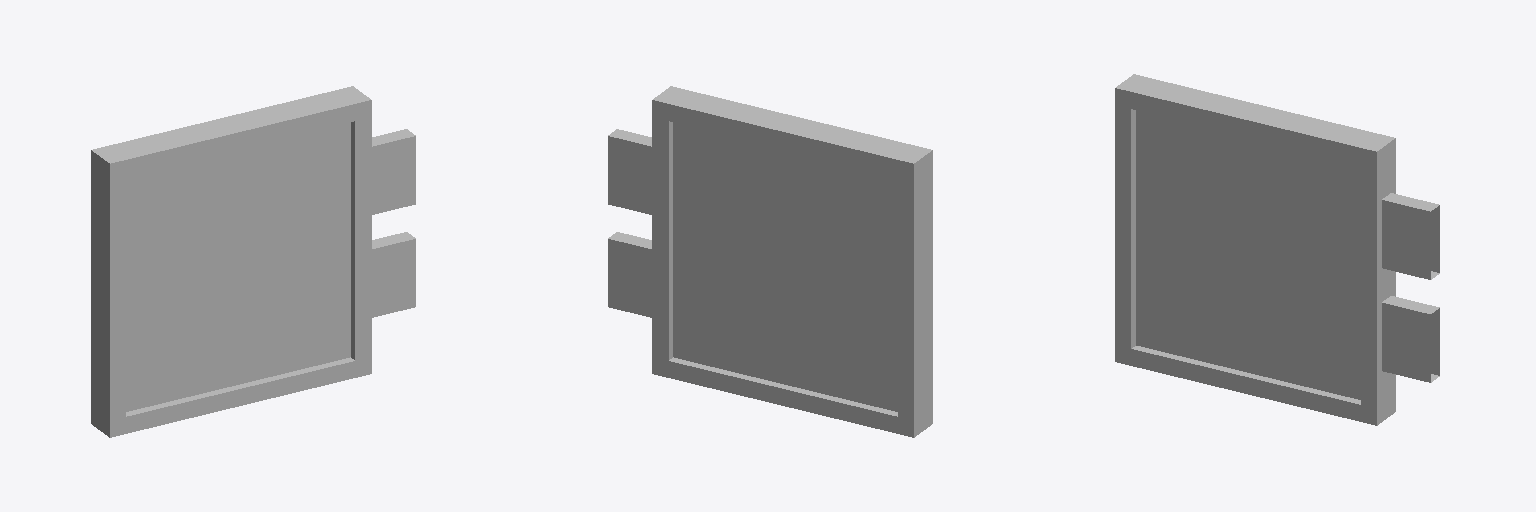
The picture shows the model from 3 angles: view 1: azimuth 30°, elevation 25°; view 2: azimuth 150°, elevation 25°; view 3: azimuth 330°, elevation 25°; orthographic projection.
Parts seen in each view (by area): view 1: objRegroup03; view 2: objRegroup03; view 3: objRegroup03.
Part boxes in pixels (bbox=[...]): objRegroup03: bbox=[91, 86, 415, 437]; objRegroup03: bbox=[608, 86, 932, 437]; objRegroup03: bbox=[1115, 74, 1439, 425].
Size of the model in its own units: 9.5 by 8 by 1.